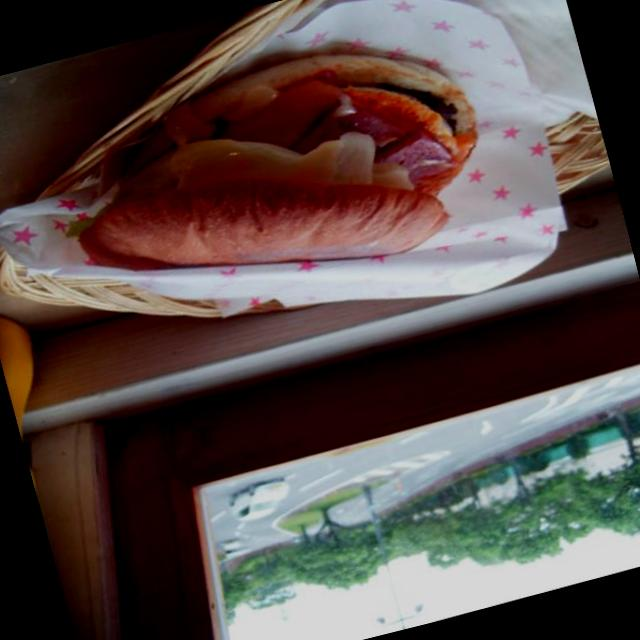Hamburger: (61, 6, 522, 343)
